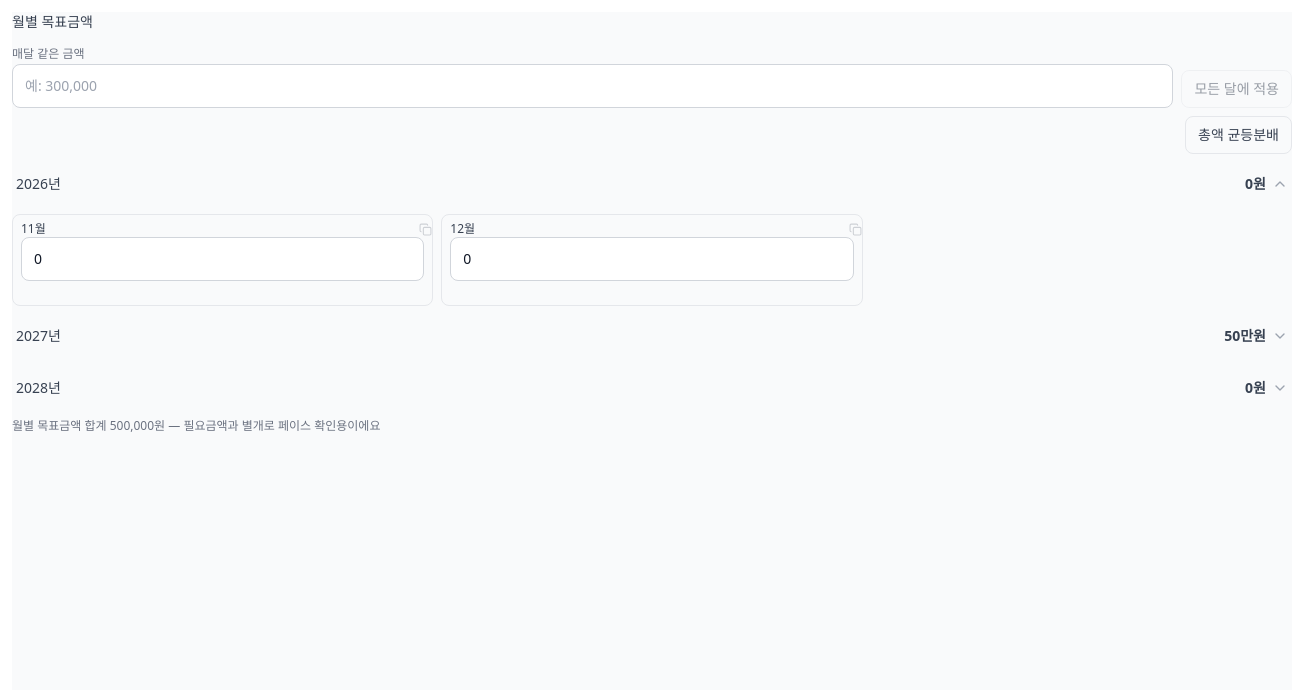
Test: GoalMonthlyTargetEditor › folds a multi-year range by year with only the first year open
Expected: the number of fields labelled "11월" is 2, left=21, top=237, right=424, bottom=281; left=450, top=237, right=854, bottom=281
Click the button "2027년 50만원".
click(32, 336)  # box left=12, top=314, right=1292, bottom=358
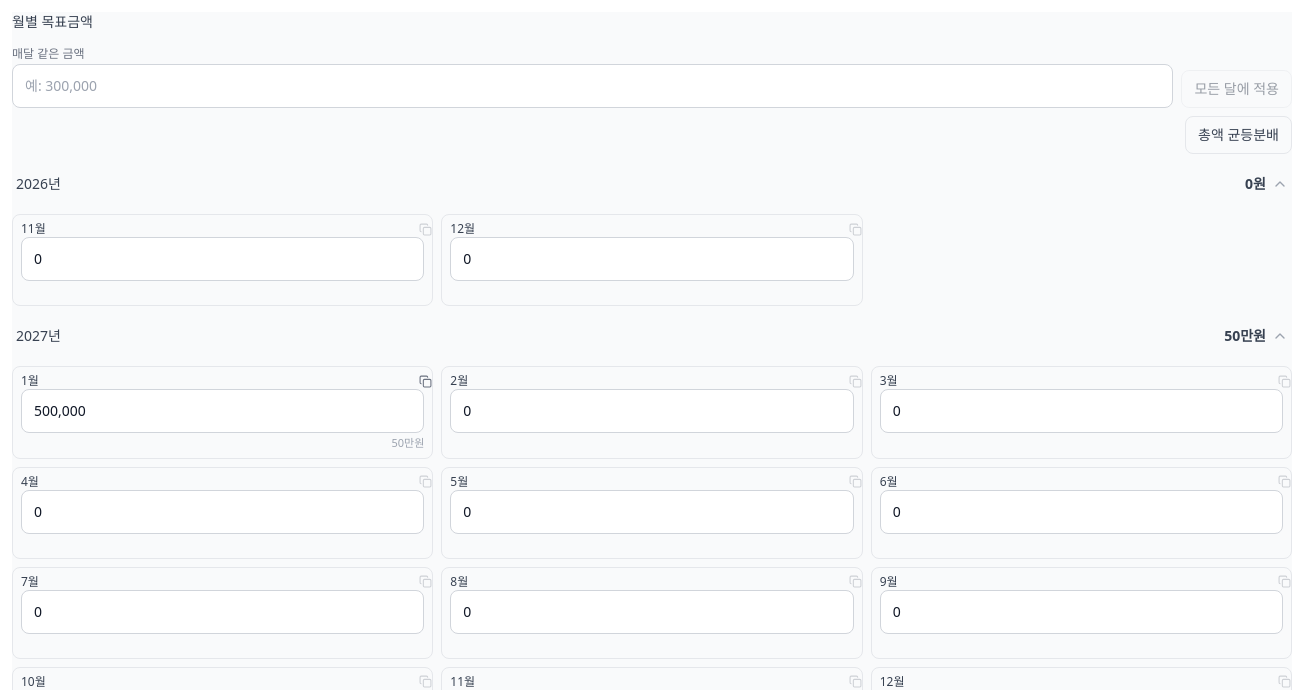
Now the number of fields labelled "11월" is 14
